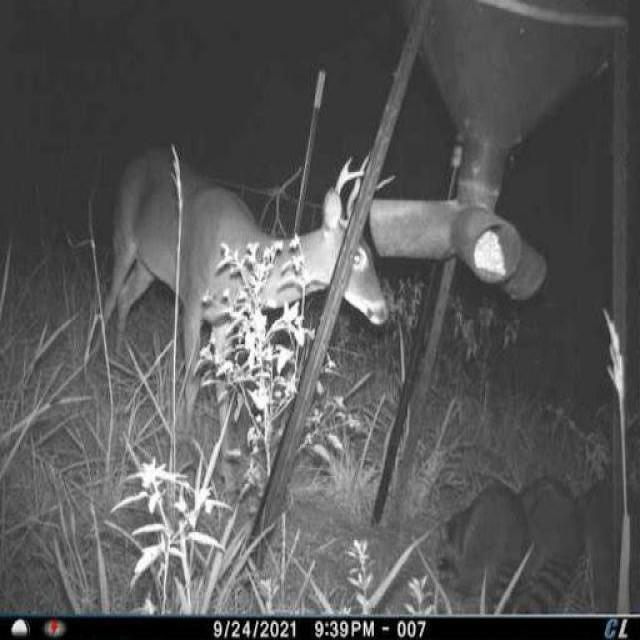deer: (84, 126, 398, 509)
